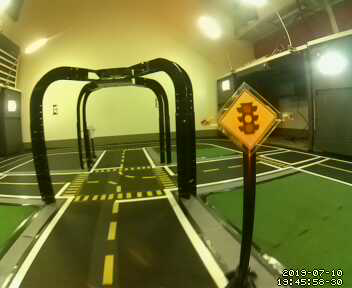Traffic light sign: (216, 85, 277, 150)
